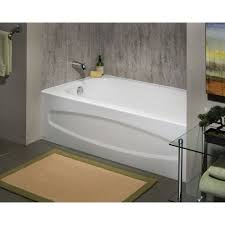bathub: (39, 71, 213, 182)
